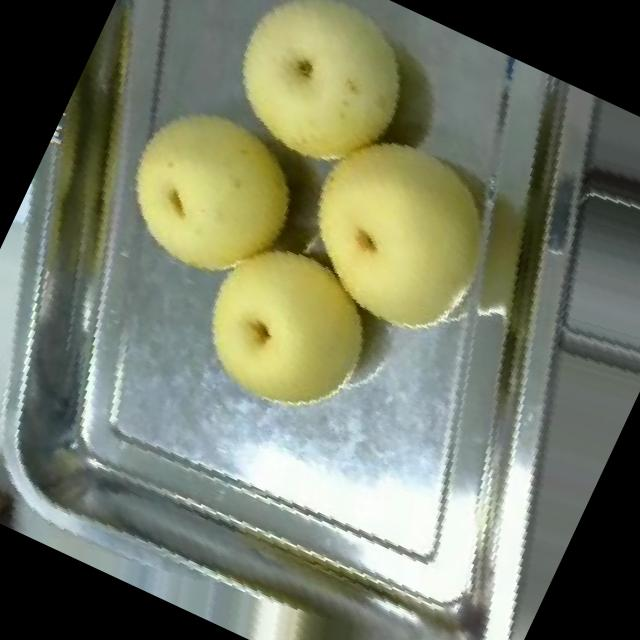Fruit: (248, 78, 554, 384), (77, 58, 347, 324), (155, 196, 417, 454), (177, 0, 464, 219)
